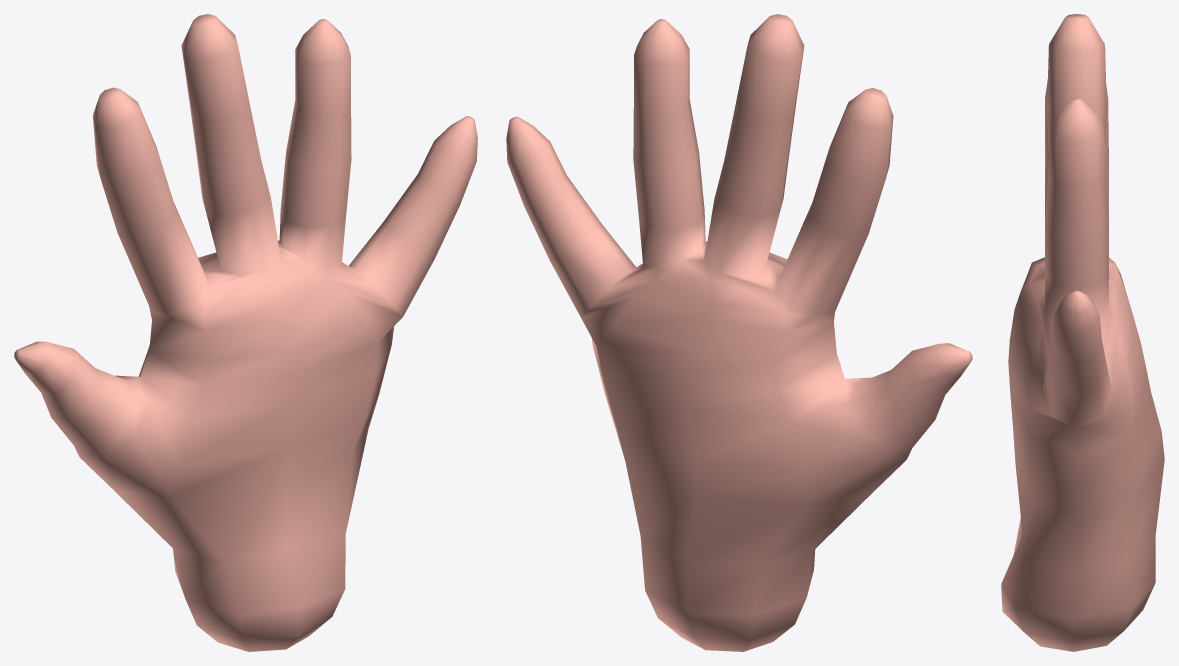
Rendered from ManoMIzq.fbx.
3 renders of one model, left to right at view 1: azimuth 30°, elevation 25°; view 2: azimuth 150°, elevation 25°; view 3: azimuth 270°, elevation 25°, orthographic. The views are drawn at different scales.
Visible parts, largest first — view 1: Cylinder.008; view 2: Cylinder.008; view 3: Cylinder.008.
Part boxes in pixels (left/top/right/bottom): Cylinder.008: left=14, top=14, right=477, bottom=651; Cylinder.008: left=506, top=14, right=972, bottom=651; Cylinder.008: left=1001, top=14, right=1164, bottom=651.
Size of the model in its own units: 1.04 by 1.37 by 0.3375.
